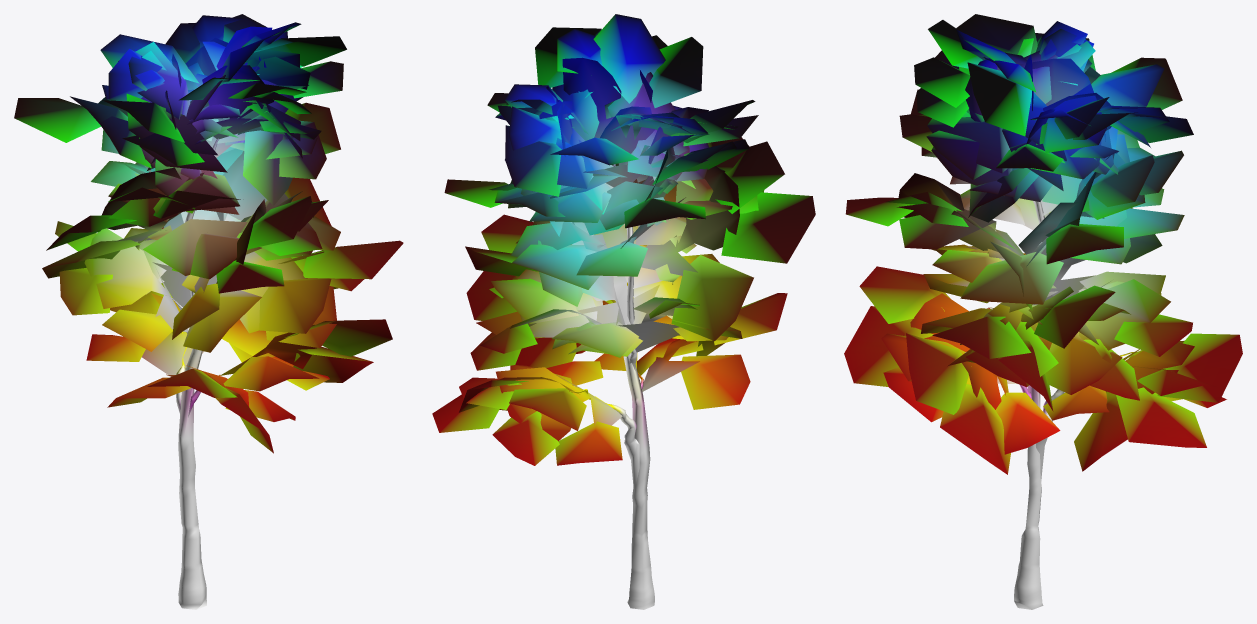
Rendered from arden_forest_maple_05_green.fbx.
3 views of the same model, side by side, from view 1: azimuth 30°, elevation 25°; view 2: azimuth 150°, elevation 25°; view 3: azimuth 270°, elevation 25° (orthographic). The views are drawn at different scales.
Parts seen in each view (by area): view 1: arden_forest_maple_05_green_leaves, arden_forest_maple_05_green_bark; view 2: arden_forest_maple_05_green_leaves, arden_forest_maple_05_green_bark; view 3: arden_forest_maple_05_green_leaves, arden_forest_maple_05_green_bark.
Part boxes in pixels (box(x1,y1,x2,y2)): arden_forest_maple_05_green_leaves: box(14, 14, 403, 453); arden_forest_maple_05_green_bark: box(167, 138, 220, 609); arden_forest_maple_05_green_leaves: box(432, 14, 815, 465); arden_forest_maple_05_green_bark: box(569, 164, 654, 609); arden_forest_maple_05_green_leaves: box(844, 14, 1242, 474); arden_forest_maple_05_green_bark: box(1014, 201, 1136, 609).
Bounding box in the file's own units: 4.21 × 4.14 × 6.81.
